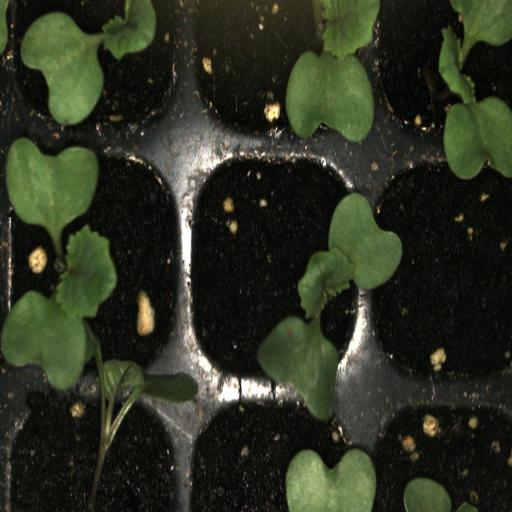askew: (2, 388, 185, 510)
seedling: (195, 149, 366, 397), (0, 155, 192, 375), (7, 0, 192, 151), (189, 0, 369, 148), (368, 0, 512, 151)
